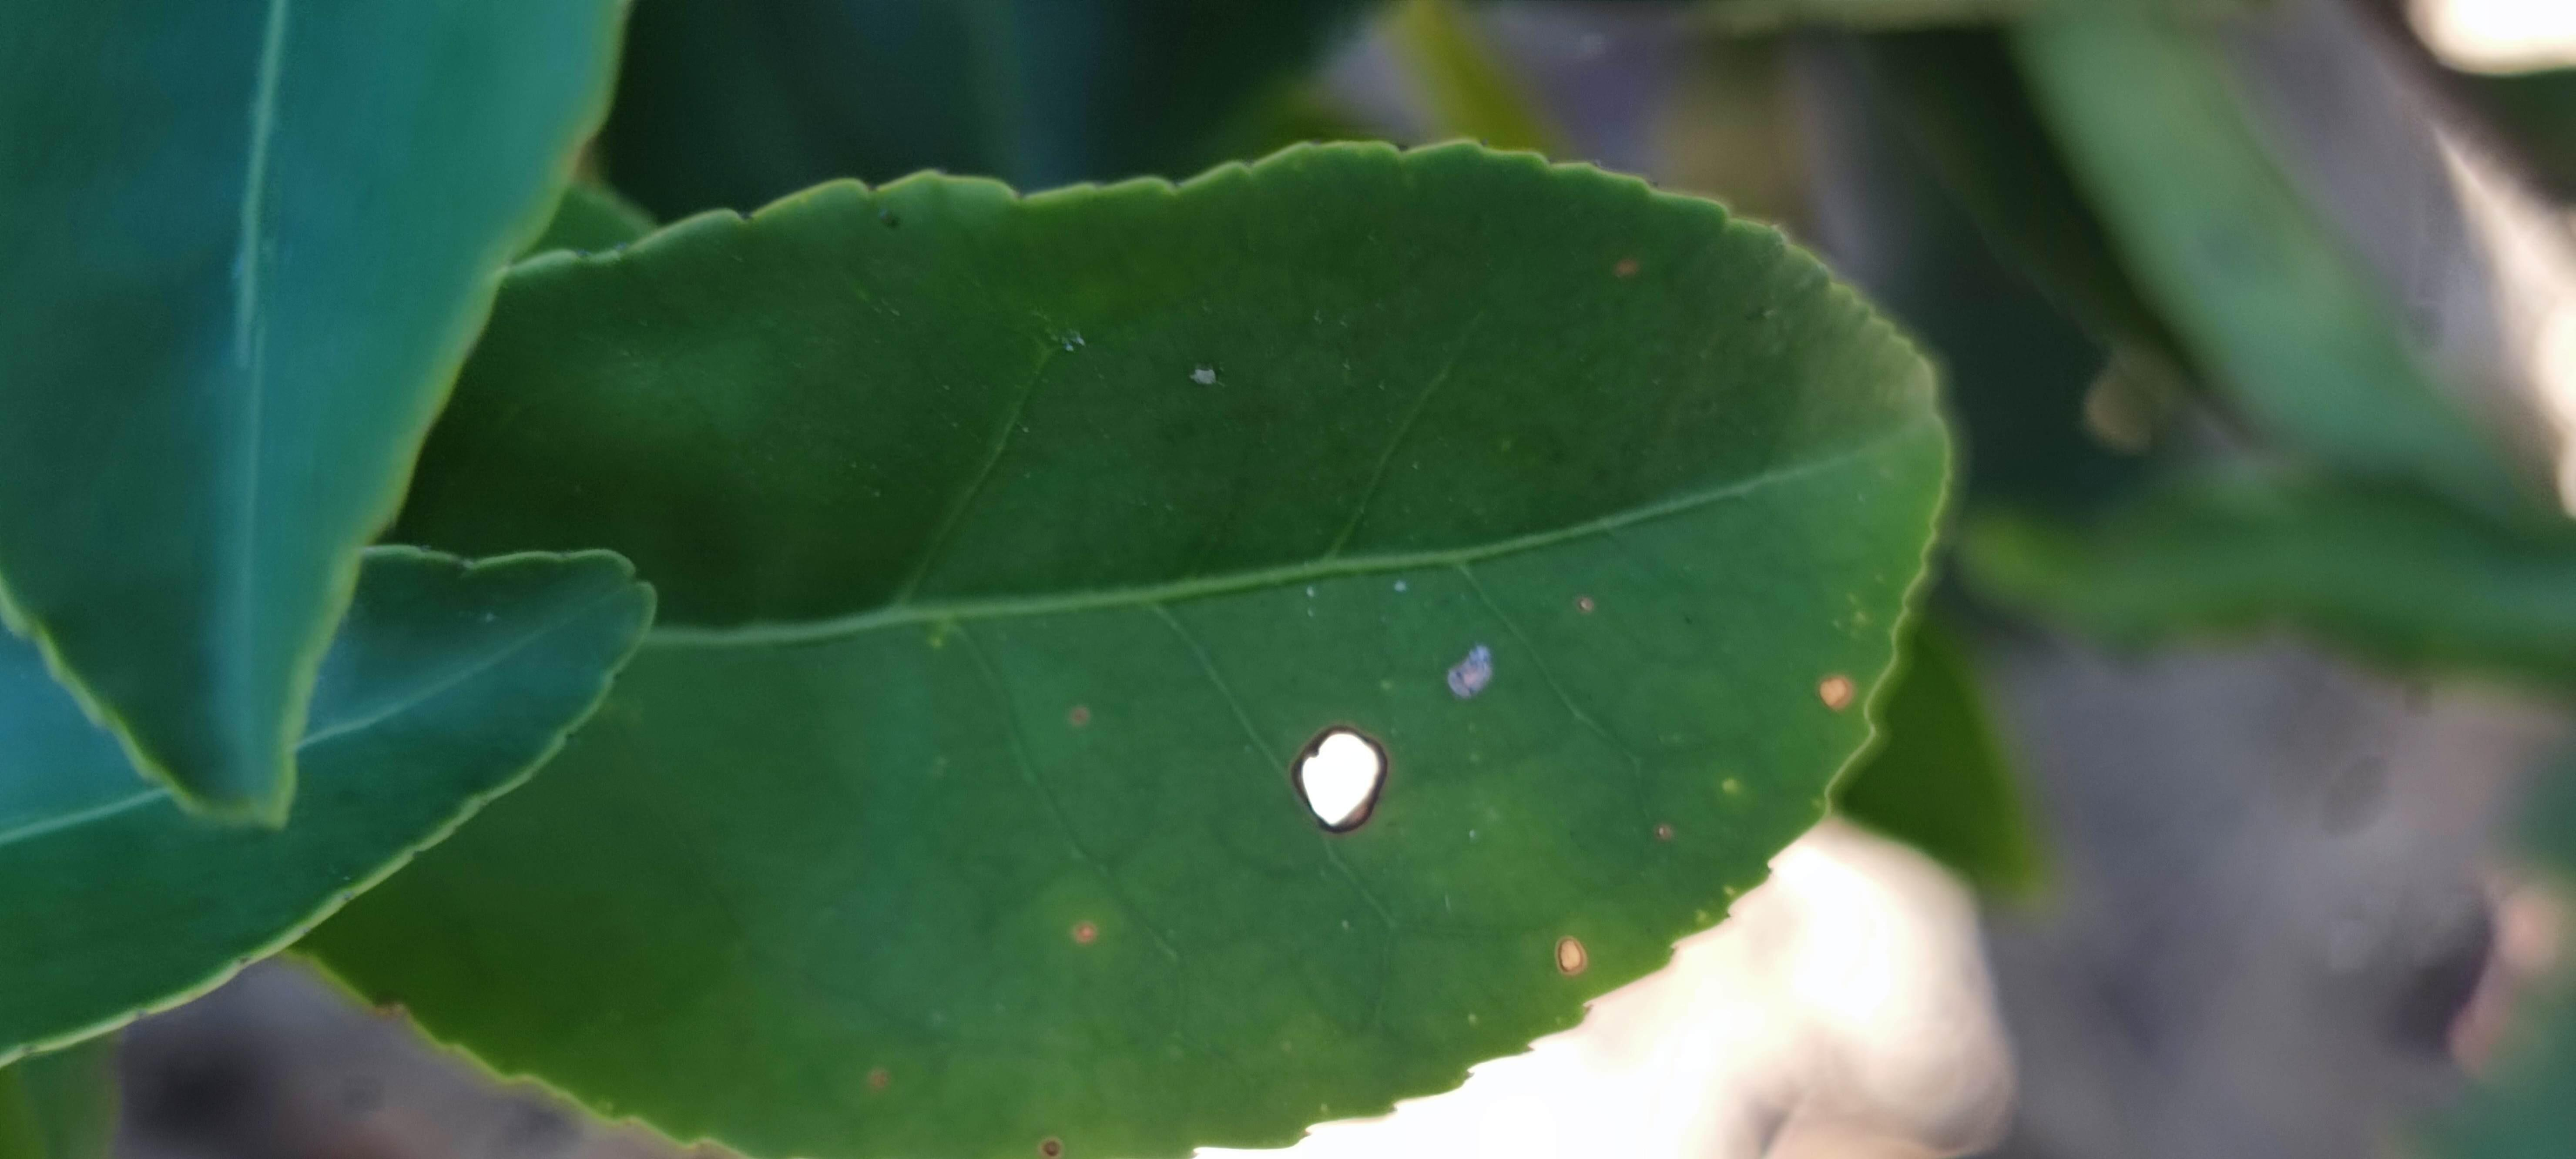chihuo_low: (294, 133, 1952, 1159)
